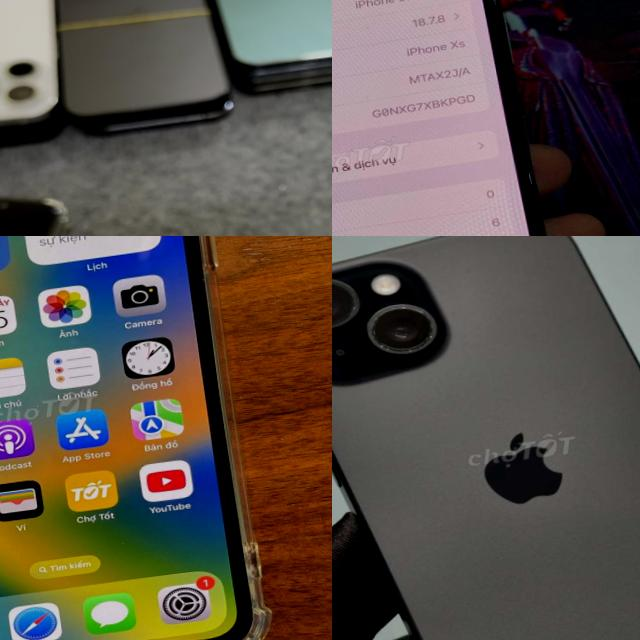gen_15: (332, 236, 640, 640)
gen_x_xs: (0, 236, 293, 640), (332, 0, 585, 236)
scratch: (332, 259, 450, 373), (520, 162, 546, 197)
